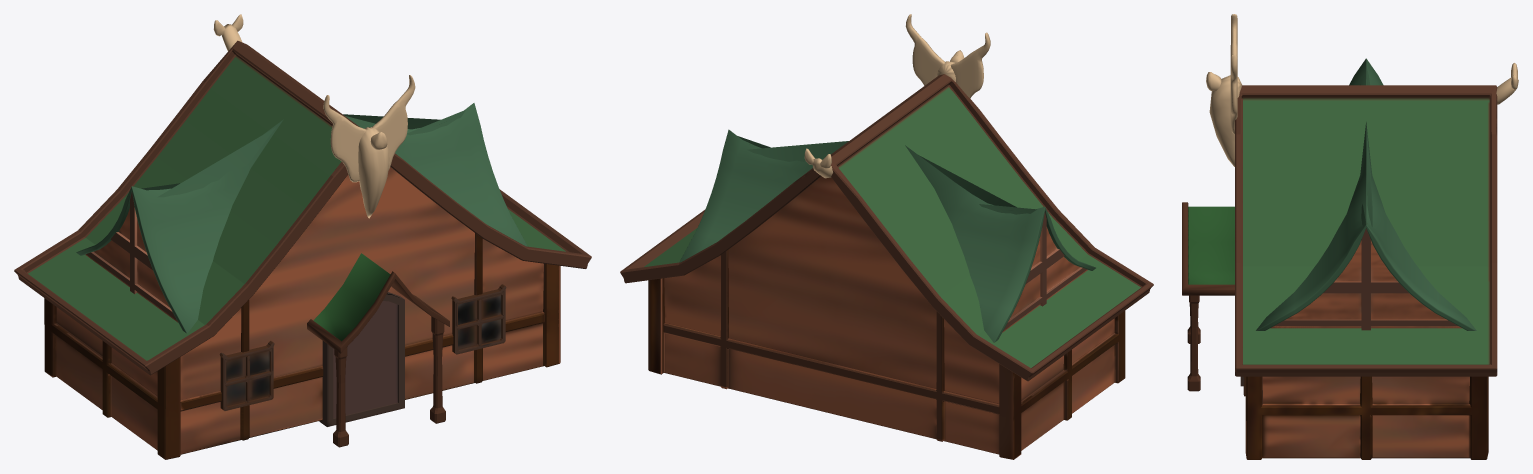
The model's file is HiminbjorgHome.glb.
The picture shows the model from 3 angles, left to right: view 1: azimuth 30°, elevation 25°; view 2: azimuth 150°, elevation 25°; view 3: azimuth 270°, elevation 25°; orthographic projection. The views are drawn at different scales.
Parts seen in each view (by area): view 1: Cube.013; view 2: Cube.013; view 3: Cube.013.
Part boxes in pixels (bbox=[...]): Cube.013: bbox=[14, 14, 591, 459]; Cube.013: bbox=[620, 14, 1153, 459]; Cube.013: bbox=[1182, 14, 1518, 459].
Size of the model in its own units: 13.49 by 9.66 by 8.84.
Materials: 1 (1 with a texture image).
